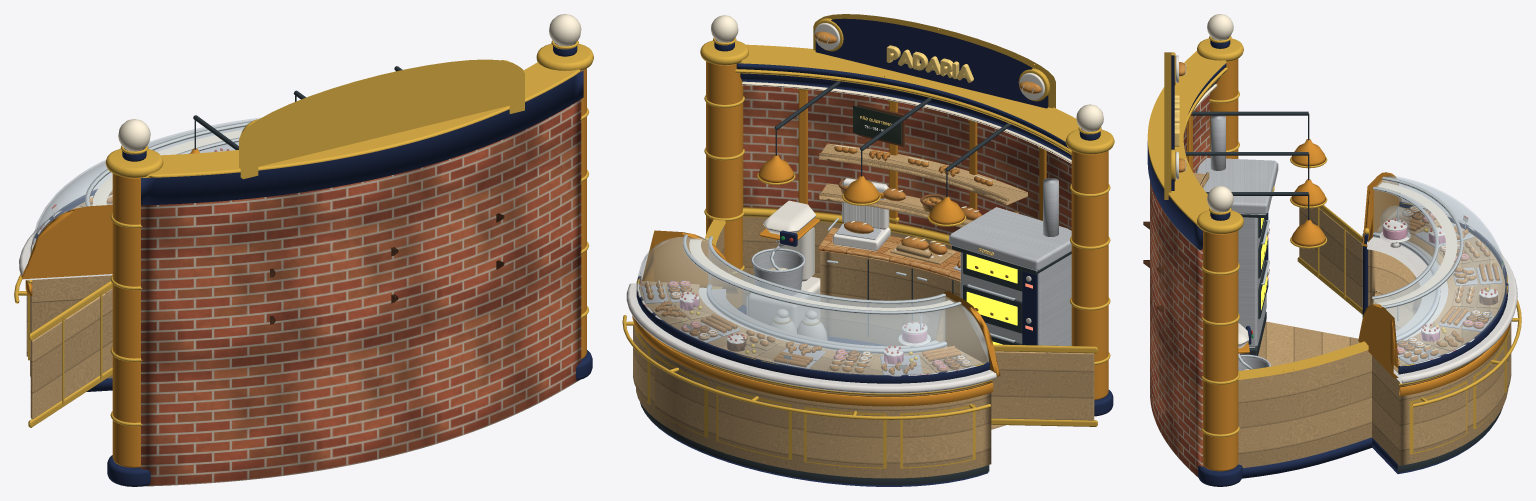
File: sector-padaria.fbx
3 views of the same model, side by side, from view 1: azimuth 30°, elevation 25°; view 2: azimuth 150°, elevation 25°; view 3: azimuth 270°, elevation 25° (orthographic). The views are drawn at different scales.
Parts seen in each view (by area): view 1: Body; view 2: Body, Anim Fill 1, Anim Fill 0, Anim Fill 3, Anim Fill 2; view 3: Body, Anim Fill 1, Anim Fill 0, Anim Fill 2, Anim Fill 3.
Part boxes in pixels (bbox=[...]): Body: bbox=[14, 14, 593, 486]; Body: bbox=[622, 14, 1114, 486]; Anim Fill 1: bbox=[680, 314, 779, 357]; Anim Fill 0: bbox=[640, 280, 710, 324]; Anim Fill 3: bbox=[880, 345, 972, 374]; Anim Fill 2: bbox=[772, 341, 874, 374]; Body: bbox=[1143, 14, 1521, 486]; Anim Fill 1: bbox=[1438, 285, 1502, 331]; Anim Fill 0: bbox=[1396, 324, 1472, 364]; Anim Fill 2: bbox=[1438, 239, 1503, 285]; Anim Fill 3: bbox=[1389, 206, 1473, 247].
Bounding box in the file's own units: 4.33 × 3 × 3.39.
